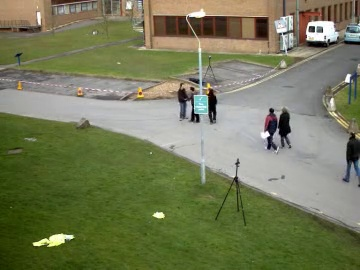person: (177, 81, 196, 121), (177, 80, 196, 120), (177, 83, 196, 122)
